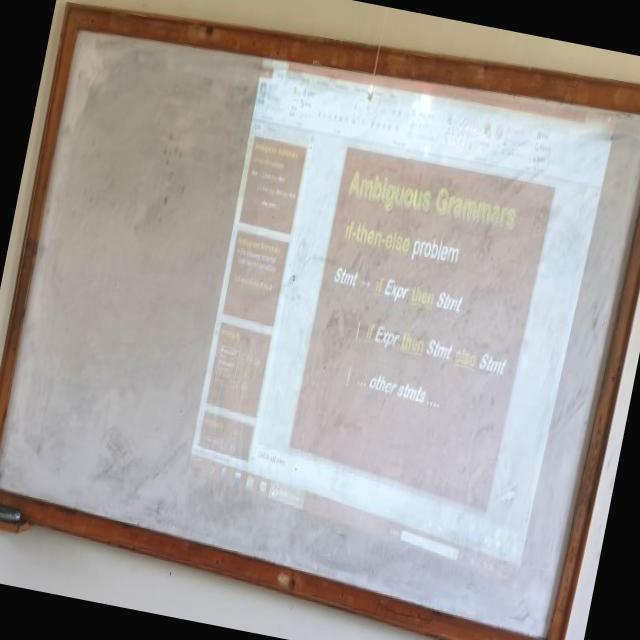Slide: (182, 51, 621, 588)
White-board: (0, 10, 640, 640)
